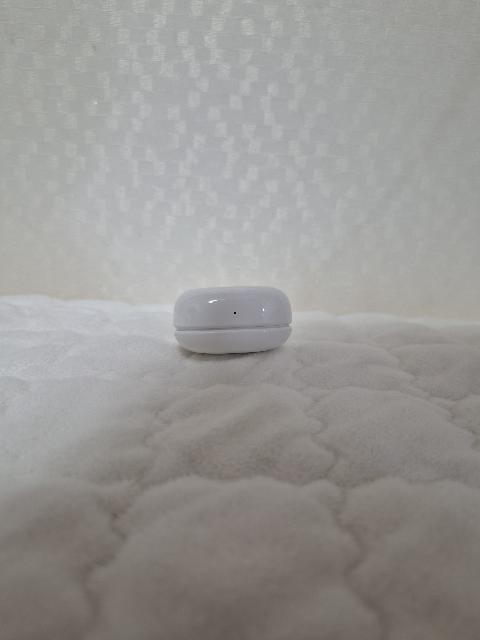earphone_case: (173, 286, 292, 354)
